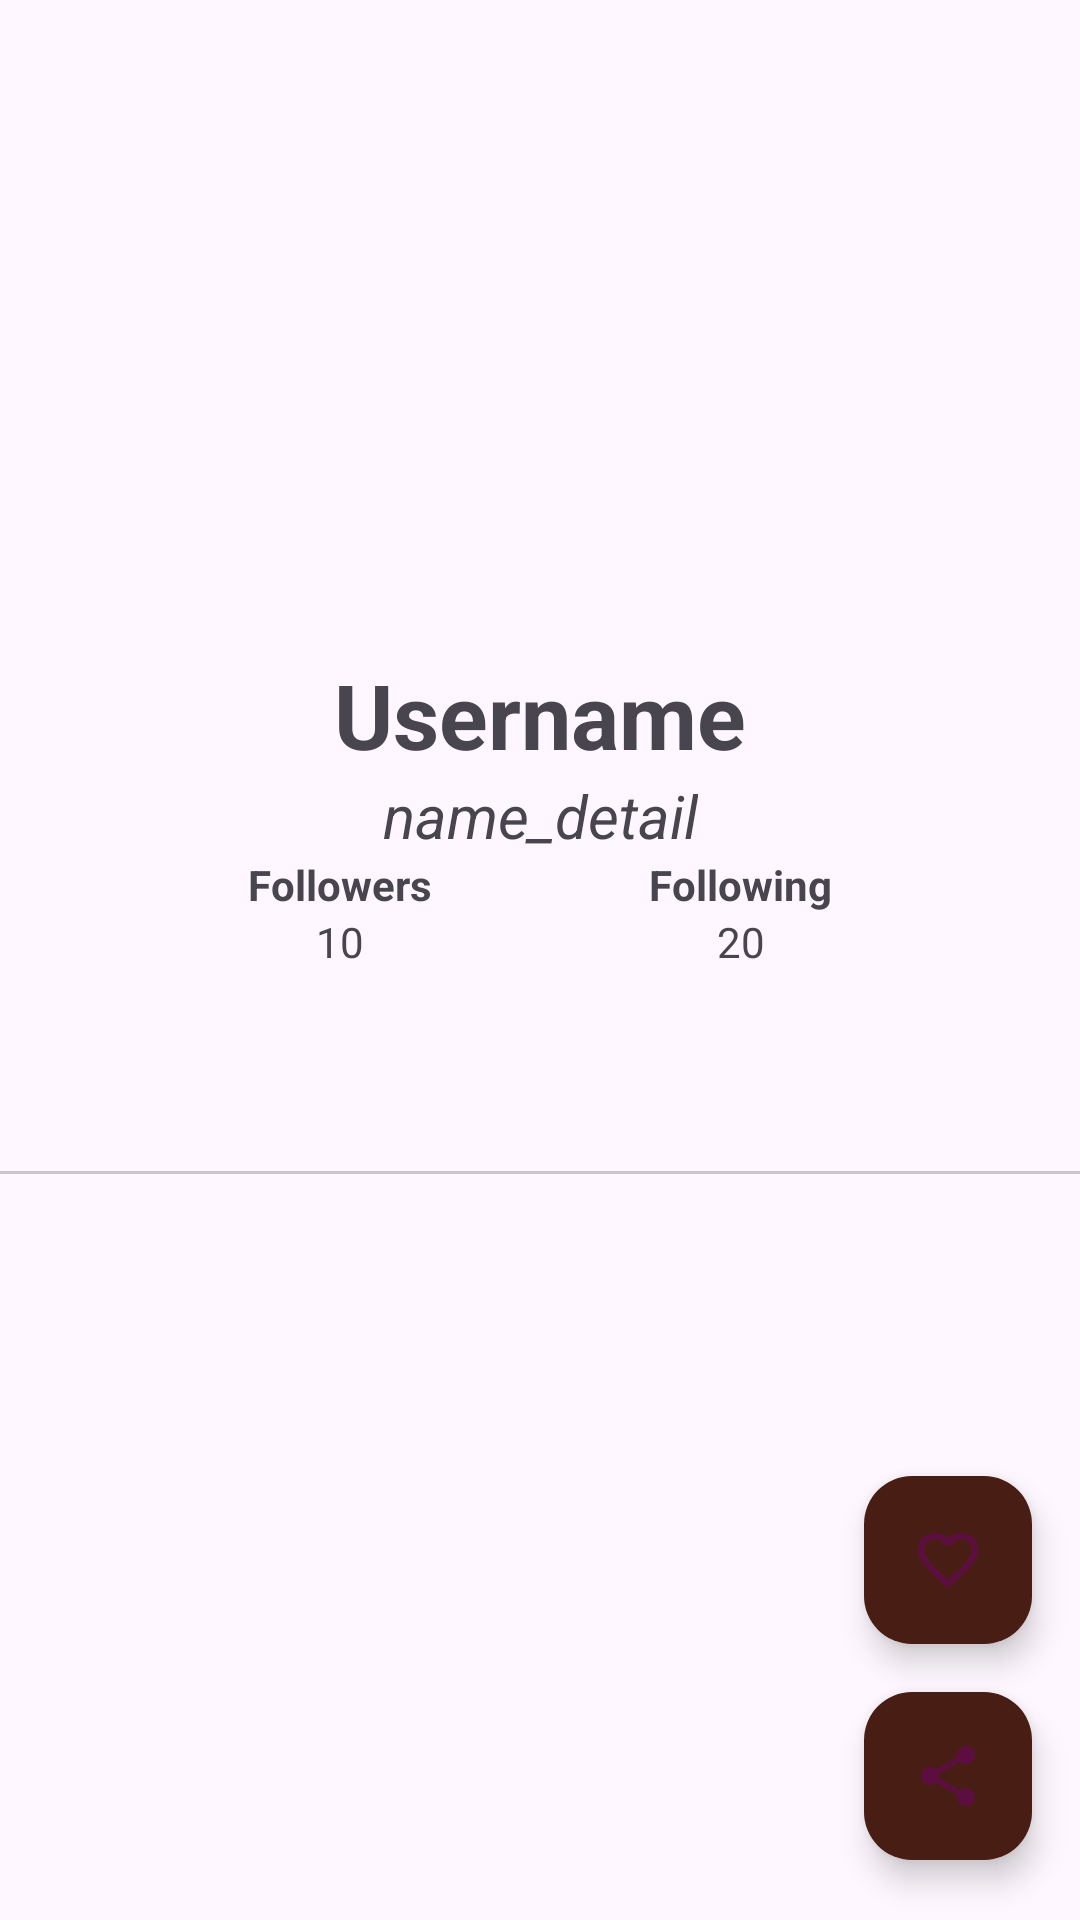

Where icons sit on this 1080*1920 app screen, as [left=x1, top=y1, right=x2, bottom=y2]:
favorite: [left=864, top=1476, right=1032, bottom=1644]
share: [left=864, top=1692, right=1032, bottom=1860]
